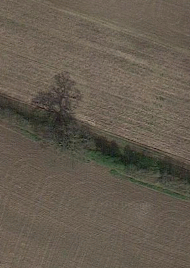tree: (37, 104, 102, 173)
